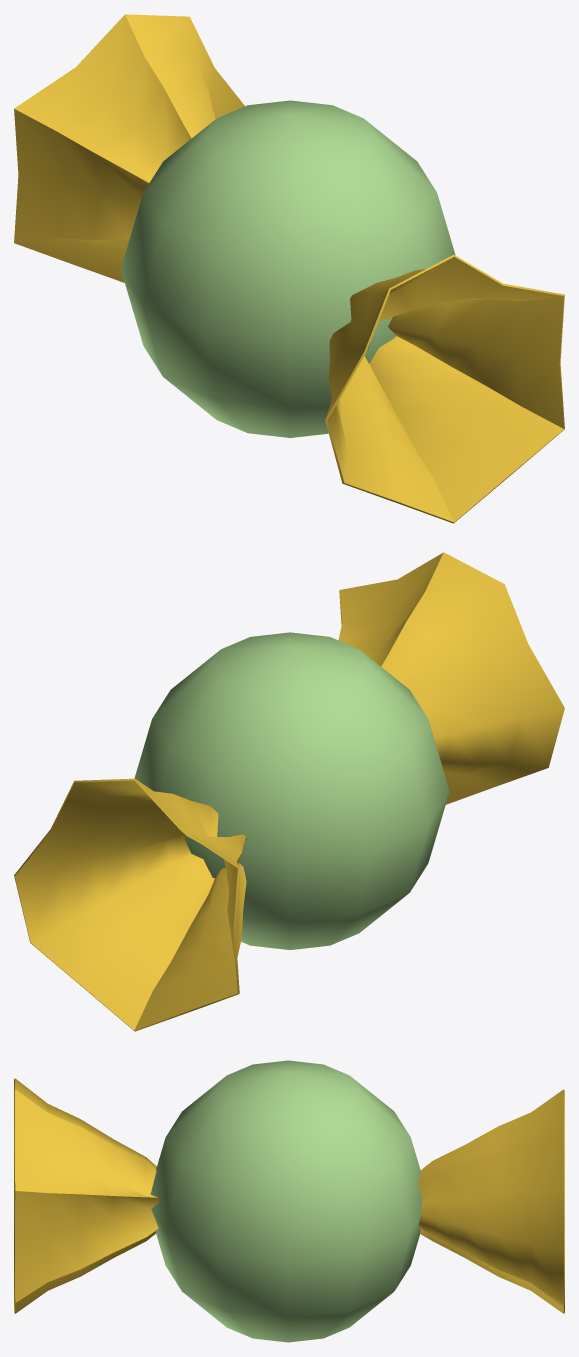
File: Candy_01.FBX
The picture shows the model from 3 angles, top to bottom: view 1: azimuth 30°, elevation 25°; view 2: azimuth 150°, elevation 25°; view 3: azimuth 270°, elevation 25°; orthographic projection. The views are drawn at different scales.
Visible parts, largest first — view 1: Candy_01; view 2: Candy_01; view 3: Candy_01.
Part boxes in pixels (left/top/right/bottom): Candy_01: left=14, top=14, right=564, bottom=523; Candy_01: left=14, top=552, right=564, bottom=1031; Candy_01: left=14, top=1060, right=564, bottom=1342.
Bounding box in the file's own units: 0.304 × 0.304 × 0.5915.
